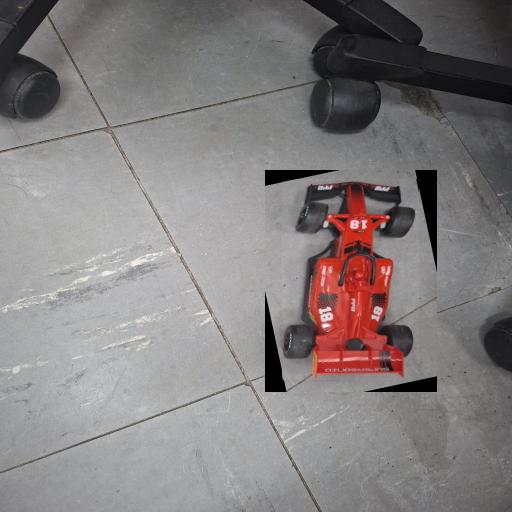carro: (283, 179, 419, 380)
